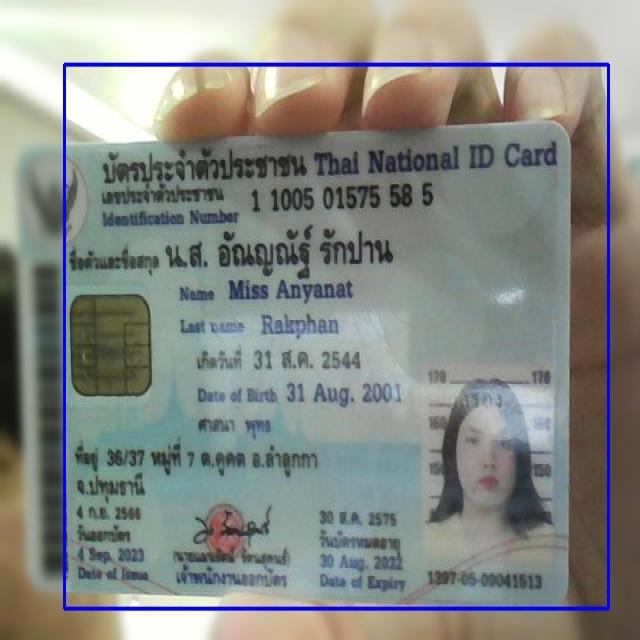Address_th: (71, 435, 335, 506)
Date_of_Birth: (282, 376, 405, 410)
Date_of_Expiry: (316, 550, 405, 574)
Date_of_Issue: (76, 543, 146, 567)
First_Name: (226, 274, 356, 307)
ID_Number: (244, 179, 440, 215)
Image: (425, 365, 553, 565)
Last_Name: (257, 310, 342, 342)
Thai_Name: (161, 223, 412, 281)
